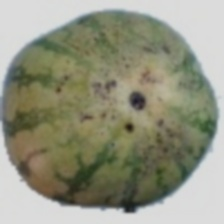watermelon: (26, 10, 205, 179)
